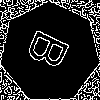B: (25, 27, 79, 77)
